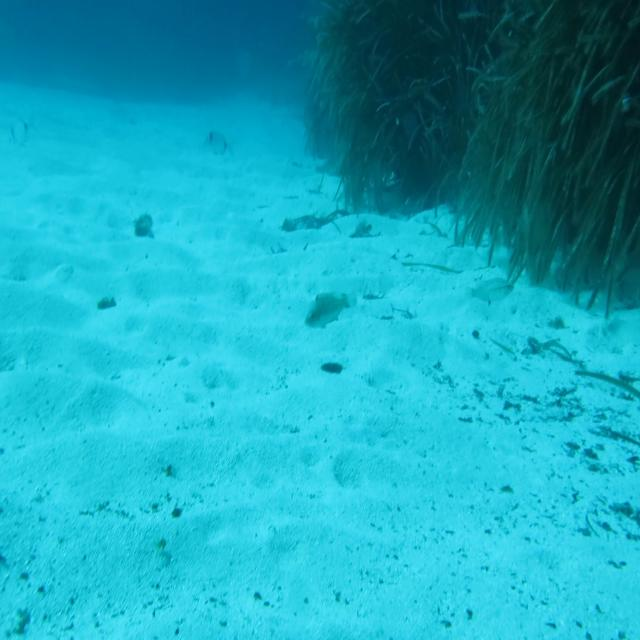BN: (303, 288, 358, 329)
female: (464, 275, 514, 305)
other_fish: (200, 127, 232, 160), (7, 117, 32, 152)
vegetation: (291, 0, 640, 248), (482, 237, 640, 318), (520, 331, 640, 409), (568, 440, 604, 472), (320, 357, 344, 378), (132, 215, 152, 236), (97, 294, 116, 311), (169, 504, 183, 518)
